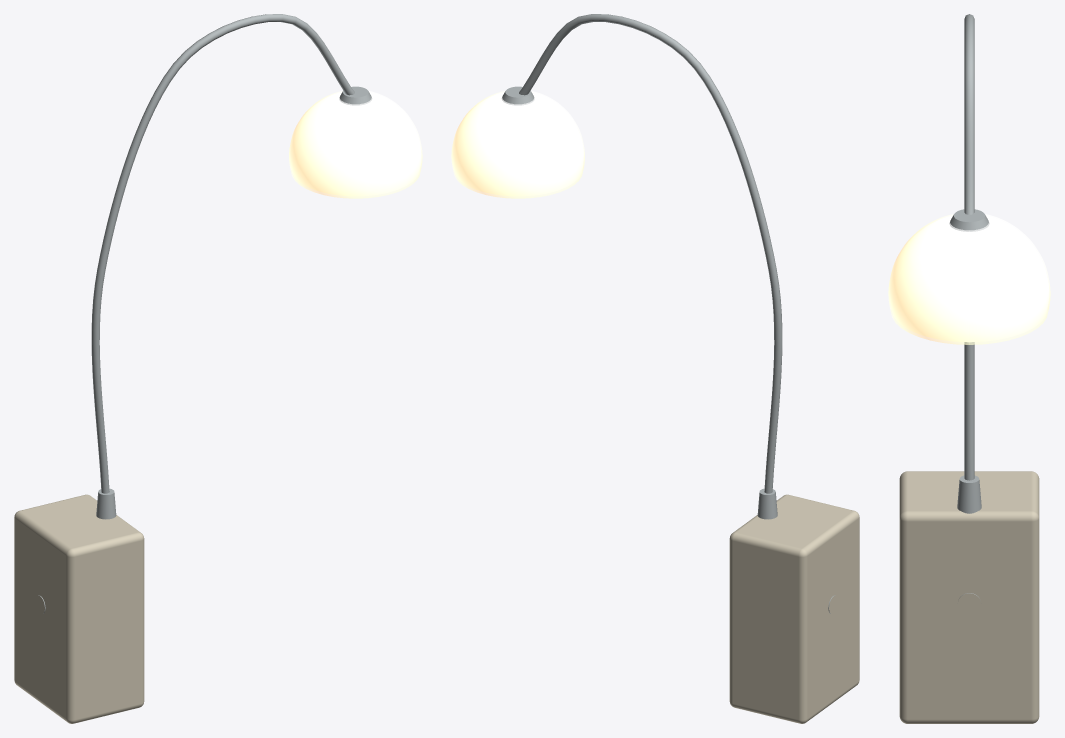
The model's file is atelier-lamp-arc-stone.glb.
3 views of the same model, side by side, from view 1: azimuth 30°, elevation 25°; view 2: azimuth 150°, elevation 25°; view 3: azimuth 270°, elevation 25° (orthographic). The views are drawn at different scales.
Bounding box in the file's own units: 1.16 × 1.9 × 0.3599.
